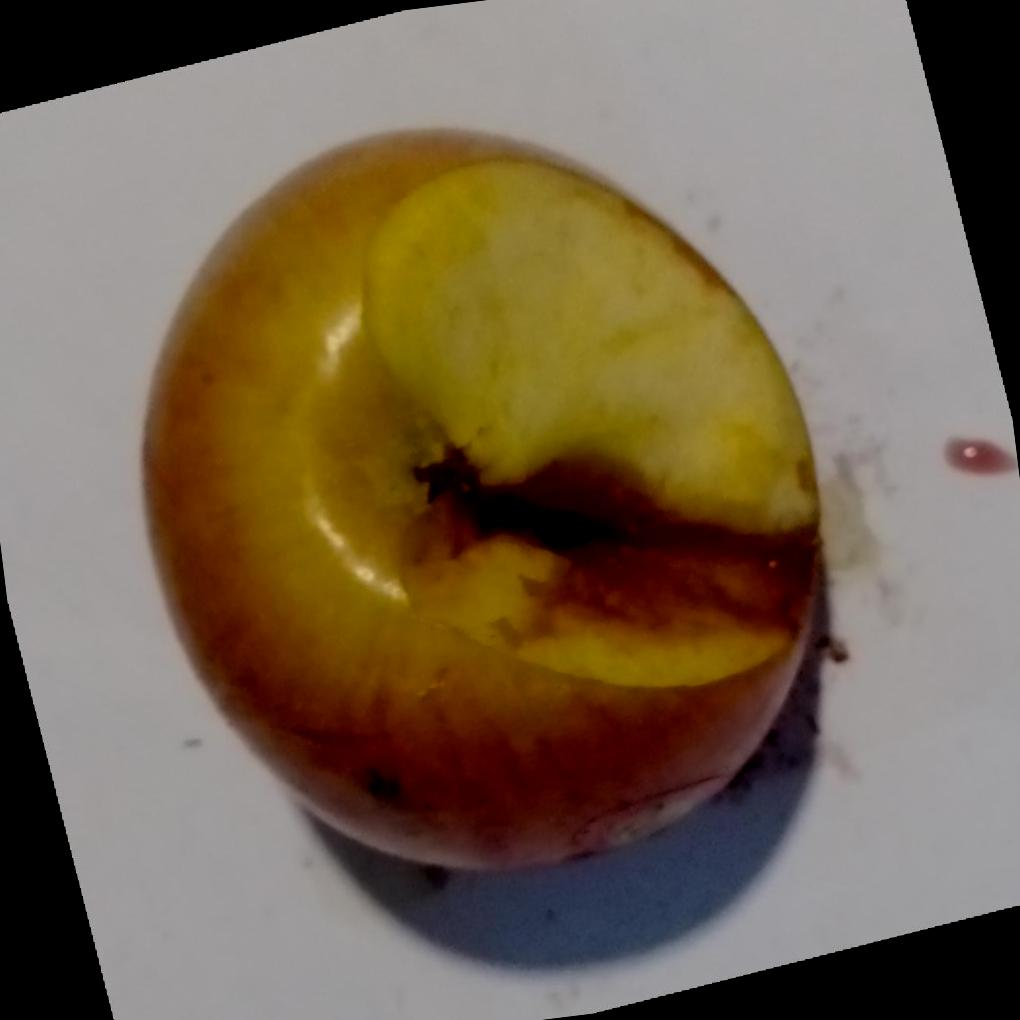FreshOrange: (141, 127, 829, 875)
